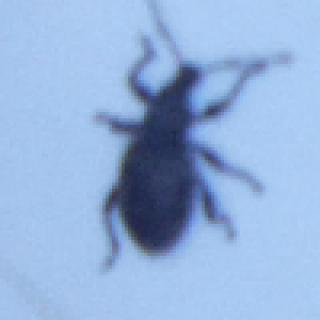bvw: (91, 5, 267, 275)
